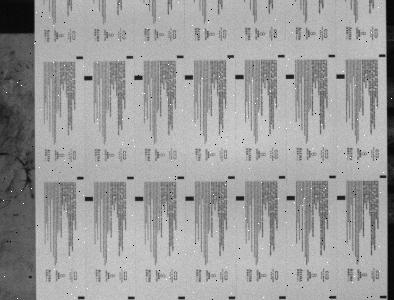qblock: (236, 196, 245, 201), (185, 196, 194, 201), (134, 75, 143, 80), (135, 196, 144, 201), (286, 74, 295, 79), (337, 195, 346, 200), (336, 74, 345, 79), (85, 196, 93, 201), (185, 75, 193, 80), (84, 76, 93, 80), (287, 196, 296, 200), (236, 75, 244, 79)
smallqblock: (126, 55, 134, 59), (278, 54, 286, 58), (77, 176, 84, 180), (279, 175, 286, 179), (279, 296, 287, 299), (227, 55, 235, 58), (329, 175, 337, 178), (228, 176, 236, 179), (177, 176, 185, 179), (128, 296, 135, 299), (76, 56, 83, 59), (78, 296, 85, 299), (178, 296, 185, 299), (229, 296, 236, 299), (330, 295, 337, 298), (177, 55, 184, 58), (329, 54, 336, 57), (379, 54, 386, 57), (127, 176, 134, 179), (380, 295, 387, 298), (380, 175, 387, 178)
